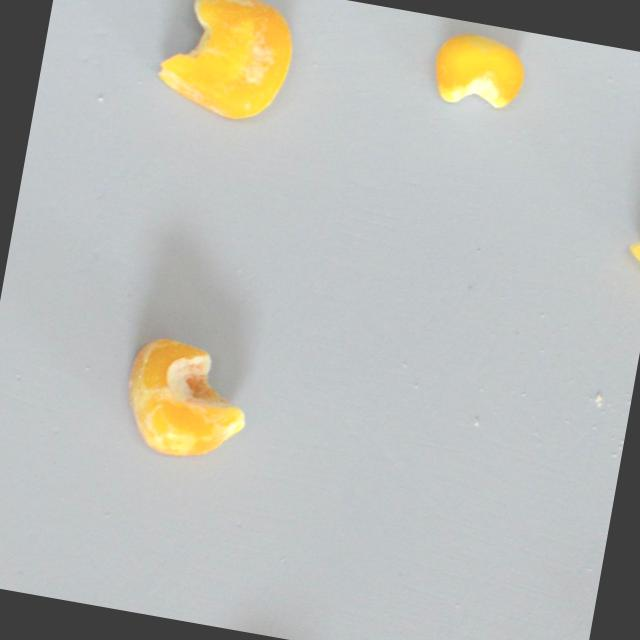dañado: (111, 321, 266, 477), (422, 21, 535, 120), (612, 164, 640, 300)
punto_negro: (145, 0, 305, 129)
